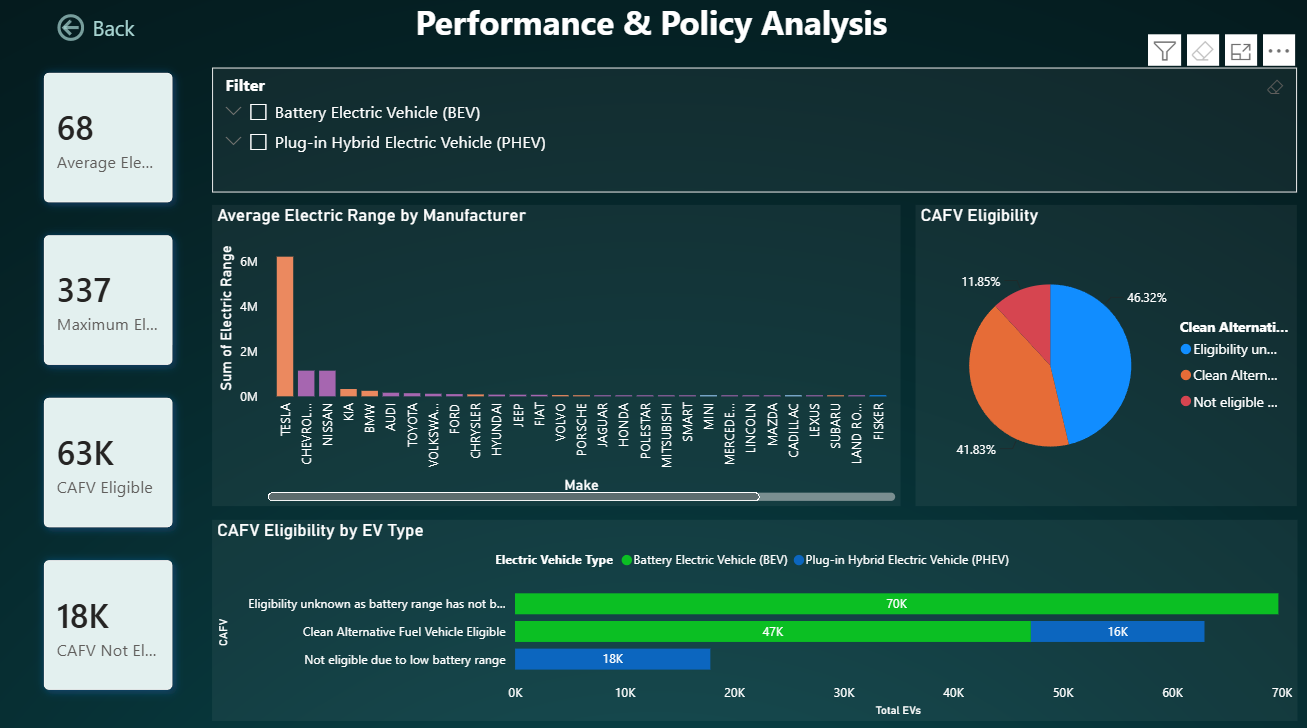

This screenshot's page, from the dashboard's own definition file:
{"tool":"powerbi","page":{"name":"Performance & Policy Analysis","canvas":[1280,720],"ordinal":3},"visuals":[{"type":"shape","box":[16.2,9.4,1246.8,48.5],"z":0},{"type":"textbox","box":[401.7,0,475.8,67.4],"z":1000},{"type":"cardVisual","fields":{"Data":["Fact Table.Average Electric Range","Fact Table.Maximum Electric Range","Electric Vehicle Population_cleaned.CAFV Eligible","Electric Vehicle Population_cleaned.CAFV Not Eligible"]},"box":[16.2,47.2,183.3,659.1],"z":2000},{"type":"slicer","fields":{"Values":["Electric Vehicle Population_cleaned.Electric Vehicle Type","Electric Vehicle Population_cleaned.Make","Electric Vehicle Population_cleaned.Model Year"]},"box":[208.9,71.4,1054.1,121.3],"z":3000},{"type":"clusteredColumnChart","title":"Average Electric Range by Manufacturer","fields":{"Category":["Electric Vehicle Population_cleaned.Make"],"Y":["Sum(Electric Vehicle Population_cleaned.Electric Range)"]},"box":[208.9,204.9,668.6,292.5],"z":4000},{"type":"barChart","title":"CAFV Eligibility by EV Type","fields":{"Category":["Electric Vehicle Population_cleaned.Clean Alternative Fuel Vehicle (CAFV) Eligibility"],"Y":["CountNonNull(Electric Vehicle Population_cleaned.VIN (1-10))"],"Series":["Electric Vehicle Population_cleaned.Electric Vehicle Type"]},"box":[208.9,510.9,1054.1,195.4],"z":5000},{"type":"pieChart","title":"CAFV Eligibility","fields":{"Category":["Electric Vehicle Population_cleaned.Clean Alternative Fuel Vehicle (CAFV) Eligibility"],"Y":["CountNonNull(Electric Vehicle Population_cleaned.VIN (1-10))"]},"box":[892.3,204.9,370.7,292.5],"z":6000},{"type":"actionButton","box":[45.8,6.7,99.7,51.2],"z":7000}]}

Visuals, with their boxes in screenshot pixels (x1, y1, x2, y2), scaled from the page's 1280x720 canvas onto the 1307x728 screenshot:
shape: [left=17, top=10, right=1290, bottom=59]
textbox: [left=410, top=0, right=896, bottom=68]
cardVisual - Fact Table.Average Electric Range x Fact Table.Maximum Electric Range: [left=17, top=48, right=204, bottom=714]
slicer - Electric Vehicle Population_cleaned.Electric Vehicle Type x Electric Vehicle Population_cleaned.Make: [left=213, top=72, right=1290, bottom=195]
"Average Electric Range by Manufacturer" clusteredColumnChart: [left=213, top=207, right=896, bottom=503]
"CAFV Eligibility by EV Type" barChart: [left=213, top=517, right=1290, bottom=714]
"CAFV Eligibility" pieChart: [left=911, top=207, right=1290, bottom=503]
actionButton: [left=47, top=7, right=149, bottom=59]
